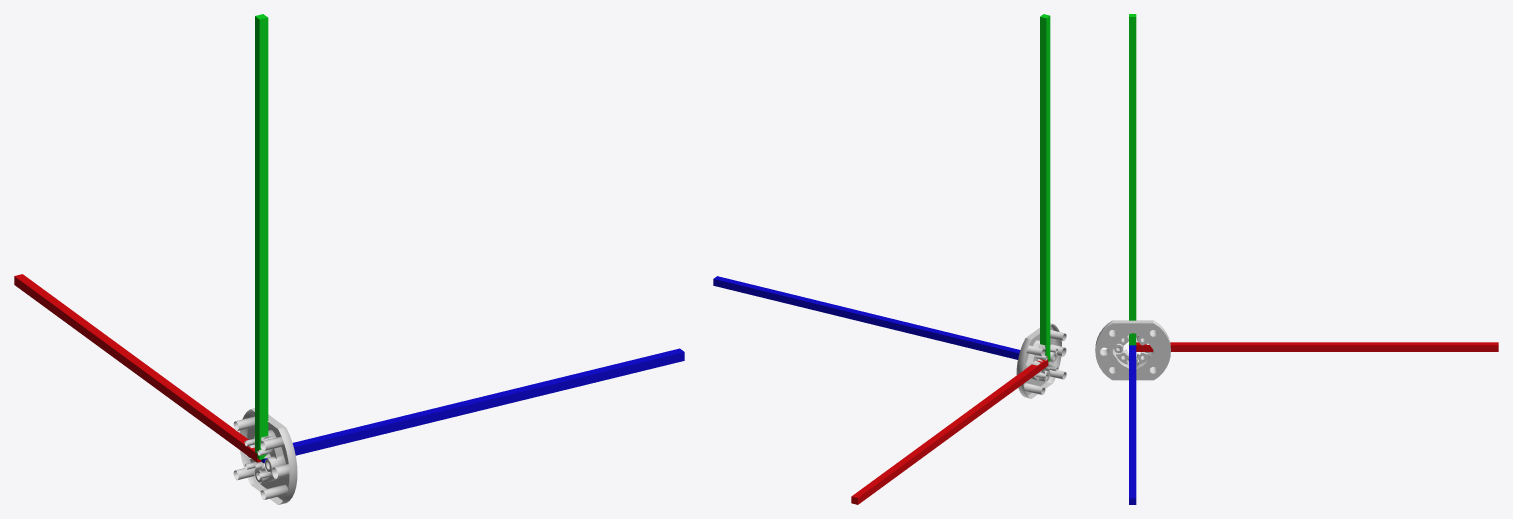
The model's file is arm6.dae.
3 views of the same model, side by side, from view 1: azimuth 30°, elevation 25°; view 2: azimuth 150°, elevation 25°; view 3: azimuth 270°, elevation 25° (orthographic). The views are drawn at different scales.
Parts seen in each view (by area): view 1: NAUO30.003; view 2: NAUO30.003; view 3: NAUO30.003.
Part boxes in pixels (left/top/right/bottom): NAUO30.003: left=14, top=14, right=684, bottom=504; NAUO30.003: left=713, top=14, right=1066, bottom=504; NAUO30.003: left=1095, top=14, right=1498, bottom=504.
Size of the model in its own units: 0.2057 by 0.2205 by 0.2176.
